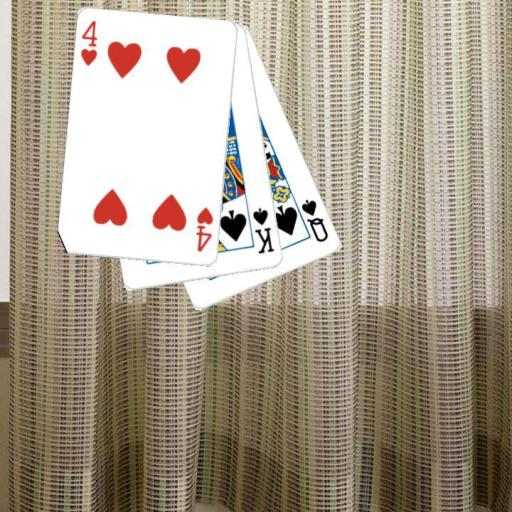4H: (193, 204, 216, 253), (78, 18, 100, 68)
KS: (250, 205, 277, 256)
QS: (298, 196, 330, 244)
